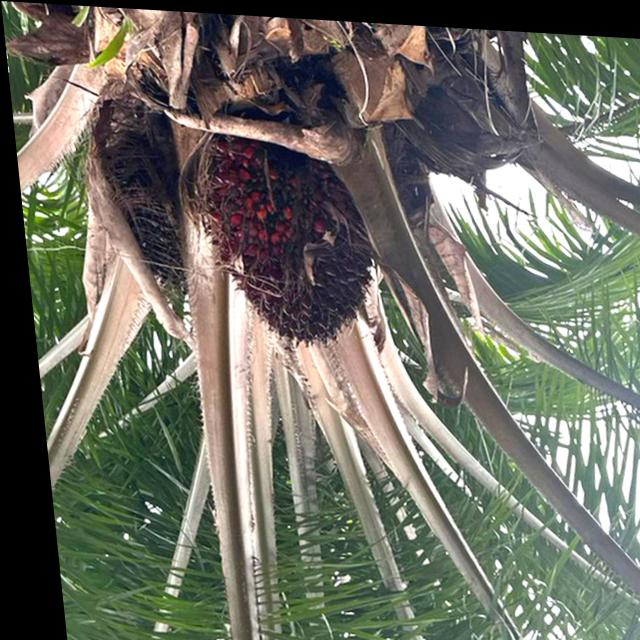ripe: (178, 113, 399, 364)
